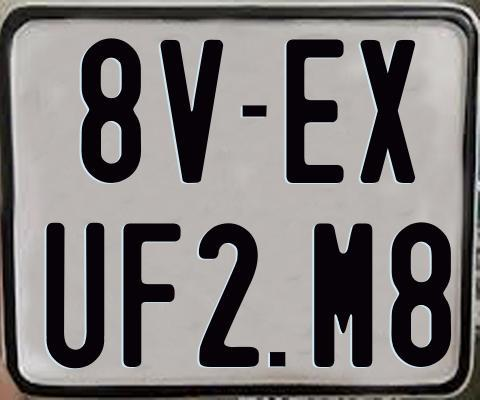2: (197, 222, 257, 372)
8: (391, 221, 454, 370), (79, 38, 140, 184)
E: (286, 36, 344, 183)
F: (123, 222, 187, 368)
M: (314, 221, 377, 369)
U: (43, 221, 103, 371)
V: (157, 37, 220, 183)
X: (360, 37, 420, 181)
